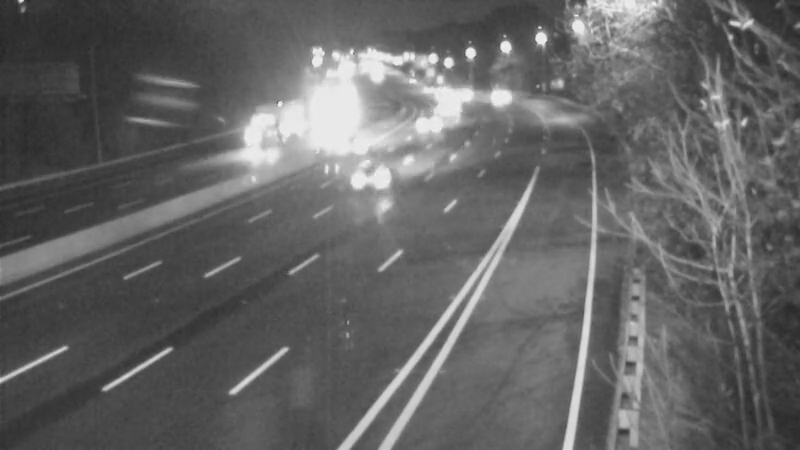vehicle: (336, 134, 416, 214), (483, 67, 533, 117), (424, 79, 474, 129), (405, 98, 455, 148), (341, 122, 391, 172), (229, 119, 279, 169)
